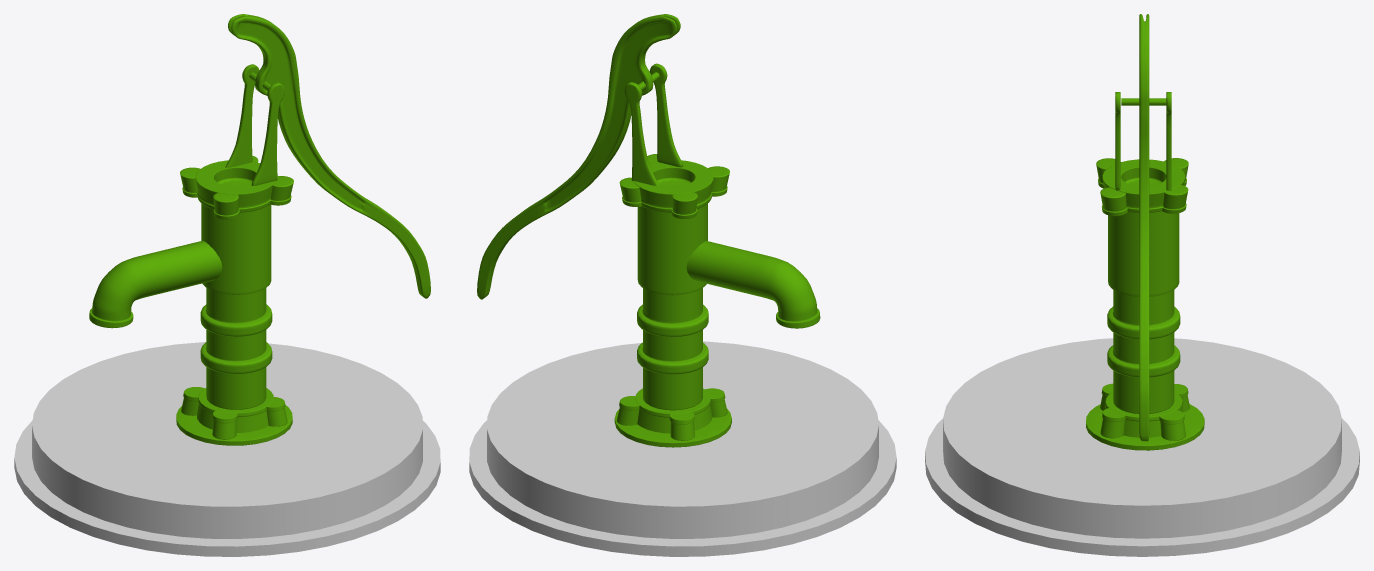
The model's file is hand.glb.
3 views of the same model, side by side, from view 1: azimuth 30°, elevation 25°; view 2: azimuth 150°, elevation 25°; view 3: azimuth 270°, elevation 25° (orthographic).
Parts seen in each view (by area): view 1: Cylinder001, polySurface61, Cylinder002; view 2: Cylinder001, polySurface61, Cylinder002; view 3: Cylinder001, polySurface61, Cylinder002.
Boxes of the visible parts, left/top/right/bottom form: Cylinder001: left=32, top=342, right=422, bottom=538; polySurface61: left=89, top=14, right=430, bottom=445; Cylinder002: left=14, top=420, right=440, bottom=556; Cylinder001: left=487, top=341, right=878, bottom=538; polySurface61: left=477, top=14, right=820, bottom=447; Cylinder002: left=469, top=420, right=896, bottom=556; Cylinder001: left=943, top=338, right=1341, bottom=538; polySurface61: left=1086, top=14, right=1204, bottom=450; Cylinder002: left=925, top=418, right=1359, bottom=556.
Bounding box in the file's own units: 0.0659 × 0.0737 × 0.0629.
